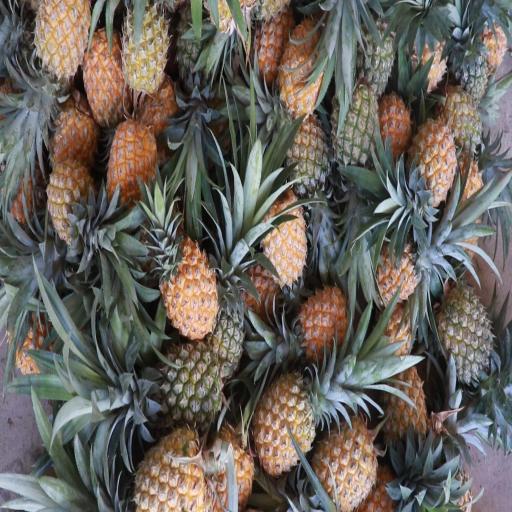------------------------------: (277, 103, 332, 208)
Pineapple - v8 v1: (248, 353, 326, 475), (306, 385, 381, 505), (117, 421, 208, 512), (100, 116, 162, 239), (369, 336, 427, 461), (154, 224, 218, 327), (356, 231, 419, 327), (404, 111, 461, 214), (252, 173, 310, 274), (194, 415, 254, 512), (273, 16, 327, 122), (75, 8, 129, 112), (430, 72, 489, 165), (42, 138, 94, 239), (114, 0, 170, 93), (30, 1, 88, 63)
